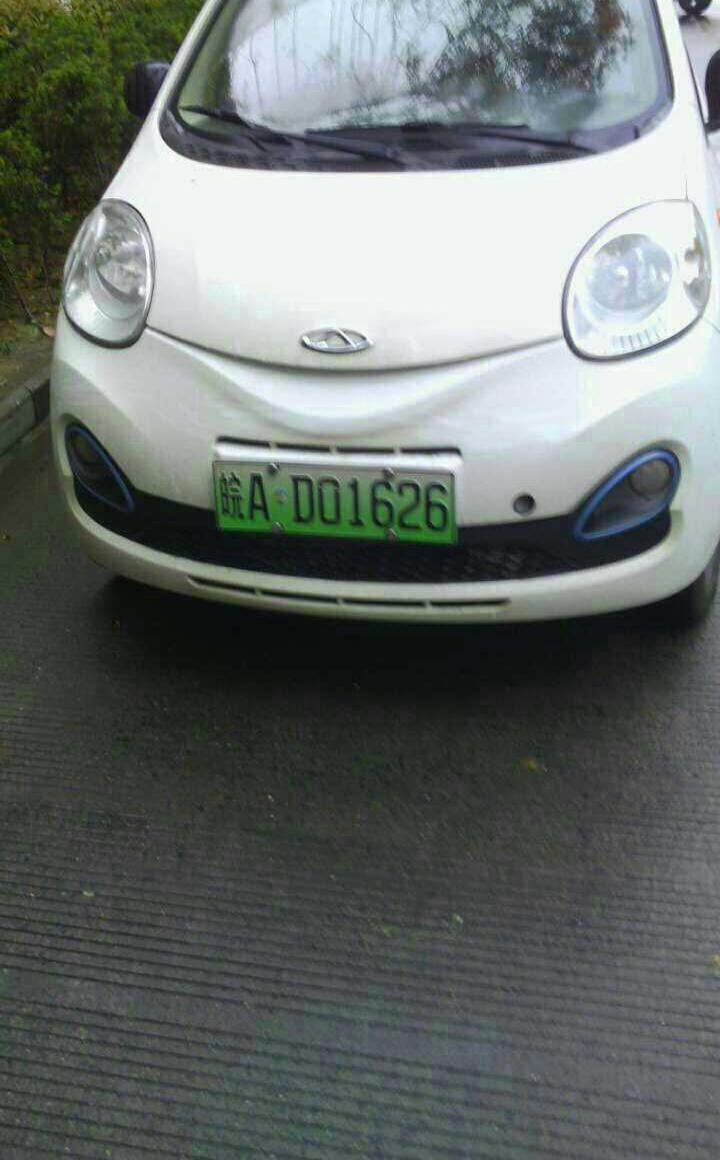car_id: (212, 459, 455, 540)
